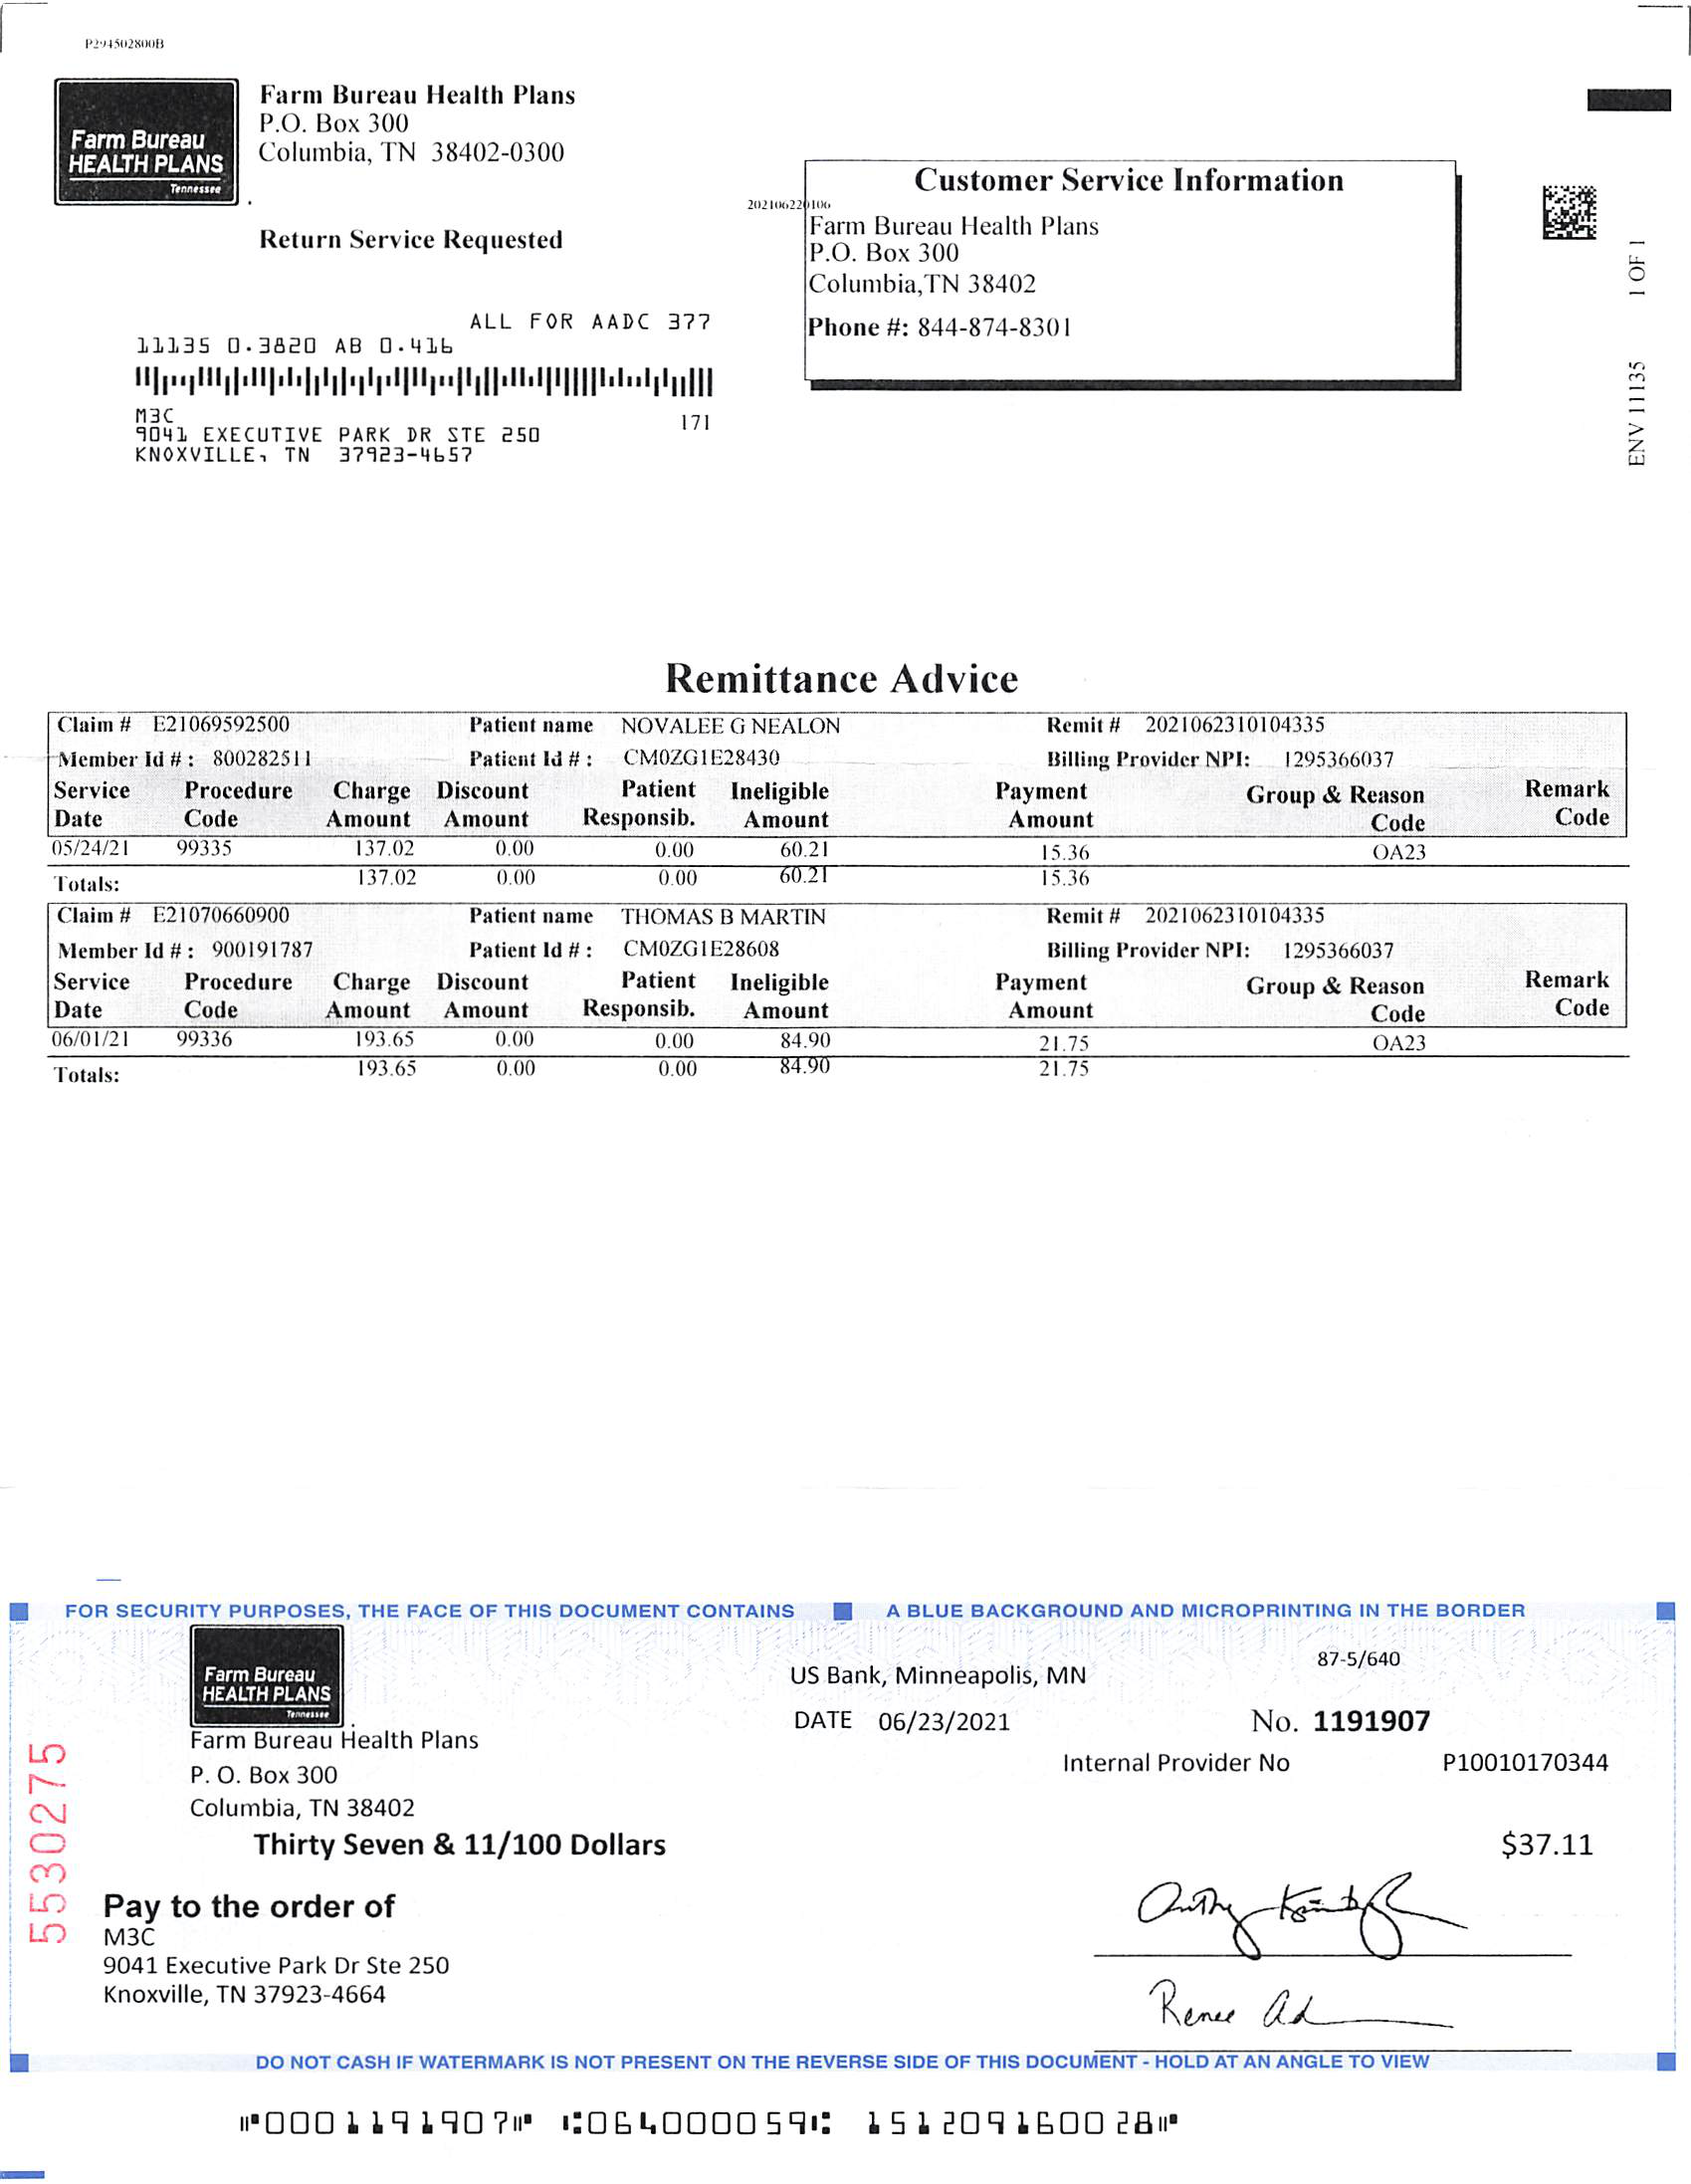data: (764, 142, 1487, 417), (23, 893, 1661, 973), (43, 693, 1659, 769)
table: (35, 966, 1640, 1080), (44, 782, 1648, 893)
